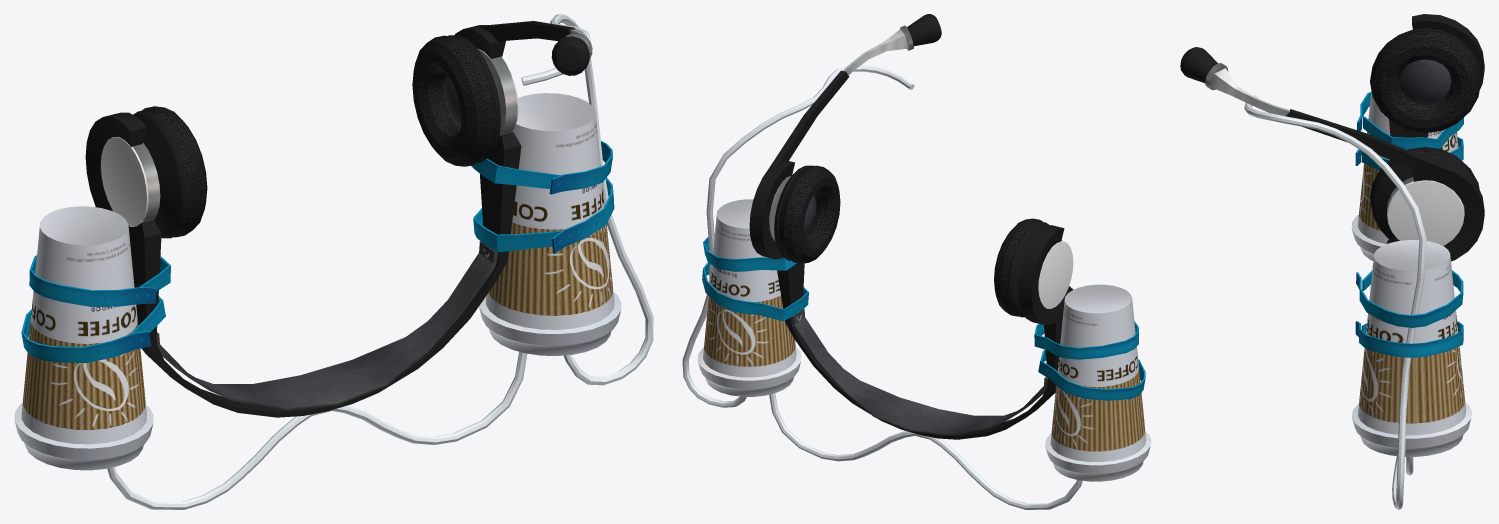
File: Headphones_fixed.FBX
3 views of the same model, side by side, from view 1: azimuth 30°, elevation 25°; view 2: azimuth 150°, elevation 25°; view 3: azimuth 270°, elevation 25° (orthographic). The views are drawn at different scales.
Parts seen in each view (by area): view 1: Torus003; view 2: Torus003; view 3: Torus003.
Part boxes in pixels (x1,y1,x2,y2): Torus003: (14,14,653,509); Torus003: (682,14,1151,509); Torus003: (1180,14,1484,509).
Bounding box in the file's own units: 9.75 × 7.54 × 4.99.
